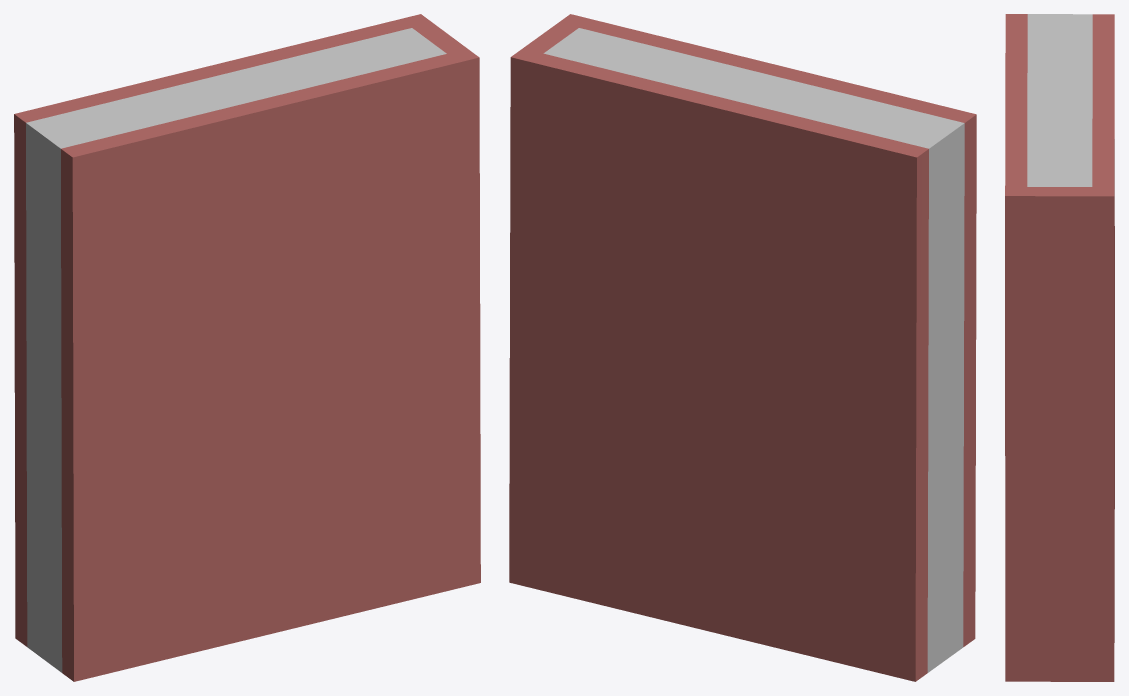
Rendered from SM_Book_01.fbx.
The picture shows the model from 3 angles, left to right: view 1: azimuth 30°, elevation 25°; view 2: azimuth 150°, elevation 25°; view 3: azimuth 270°, elevation 25°; orthographic projection. The views are drawn at different scales.
Visible parts, largest first — view 1: SM_Book_01; view 2: SM_Book_01; view 3: SM_Book_01.
Boxes of the visible parts, bbox=[...] form: SM_Book_01: bbox=[14, 14, 480, 681]; SM_Book_01: bbox=[509, 14, 976, 681]; SM_Book_01: bbox=[1005, 14, 1114, 681].
Size of the model in its own units: 36.18 by 44.49 by 9.12.
